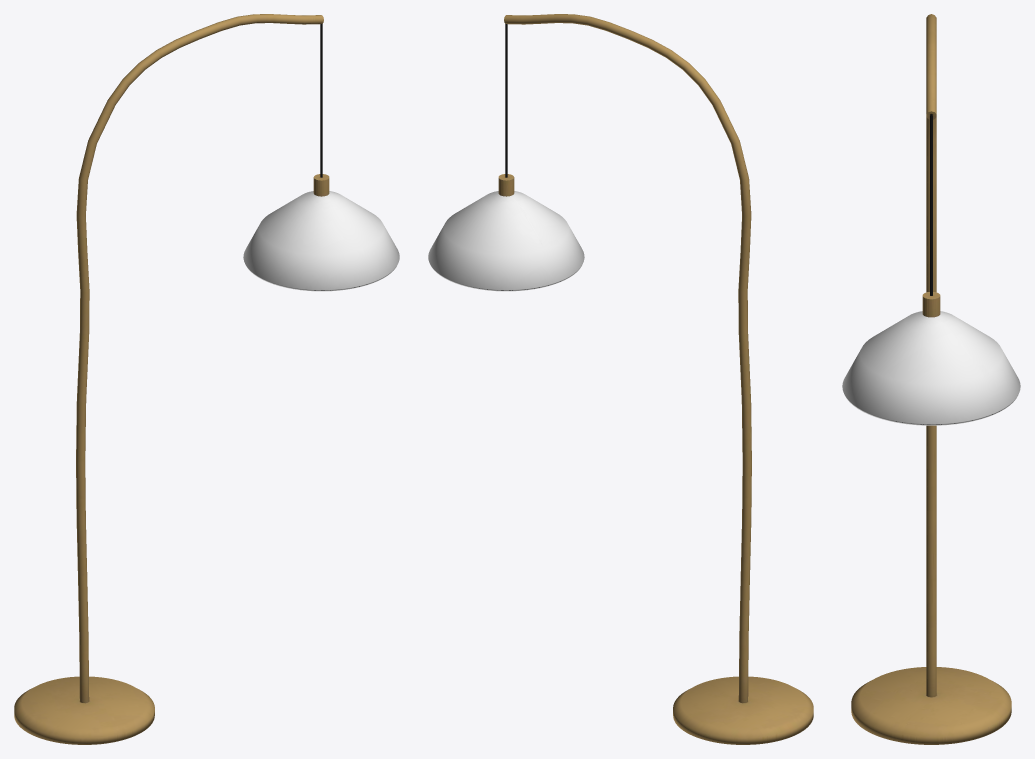
Rendered from dome-black.glb.
3 views of the same model, side by side, from view 1: azimuth 30°, elevation 25°; view 2: azimuth 150°, elevation 25°; view 3: azimuth 270°, elevation 25° (orthographic). The views are drawn at different scales.
Visible parts, largest first — view 1: brass, paint_primary_shade; view 2: brass, paint_primary_shade; view 3: brass, paint_primary_shade, cord.
Boxes of the visible parts, <box> form: brass: <box>14,14,329,744</box>; paint_primary_shade: <box>243,191,399,291</box>; brass: <box>498,14,813,744</box>; paint_primary_shade: <box>428,191,584,291</box>; brass: <box>851,14,1011,744</box>; paint_primary_shade: <box>842,311,1020,425</box>; cord: <box>930,114,932,295</box>.
Bounding box in the file's own units: 1.08 × 1.86 × 0.4.
4 materials, 2 textured.
